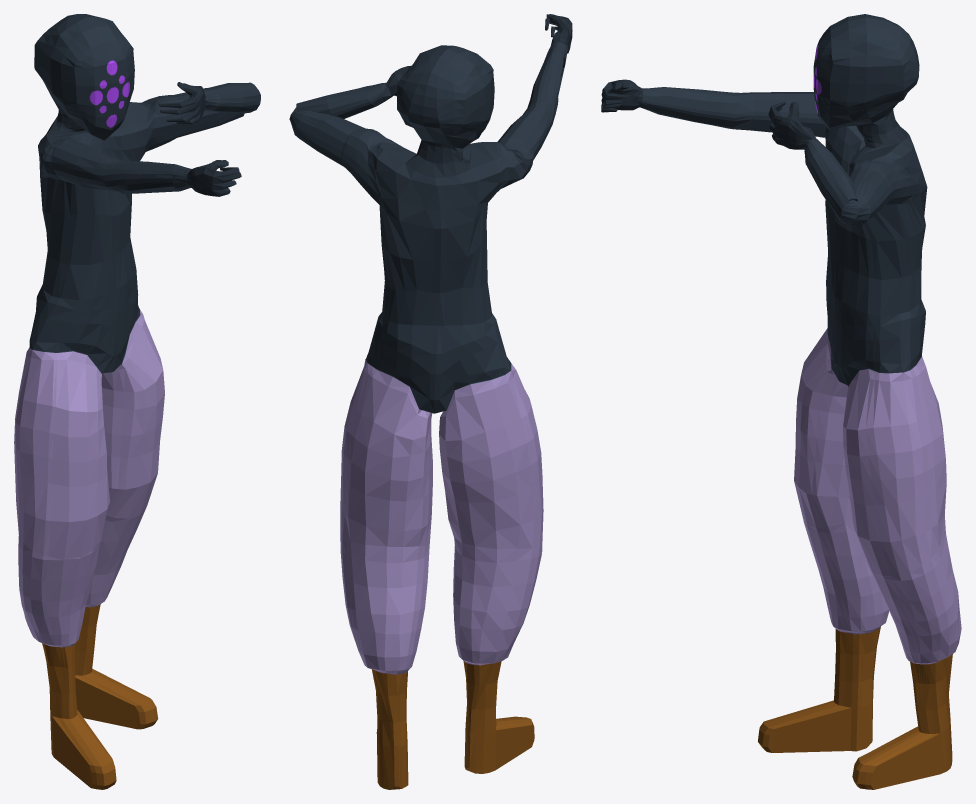
File: Oracle_Attack_000019.obj
3 renders of one model, left to right at view 1: azimuth 30°, elevation 25°; view 2: azimuth 150°, elevation 25°; view 3: azimuth 270°, elevation 25°, orthographic. The views are drawn at different scales.
Parts seen in each view (by area): view 1: Cube; view 2: Cube; view 3: Cube.
Boxes of the visible parts, x1,y1,x2,y2 form: Cube: (14,14,260,789); Cube: (289,14,572,789); Cube: (601,14,961,789).
Size of the model in its own units: 1.37 by 3.94 by 1.73.
